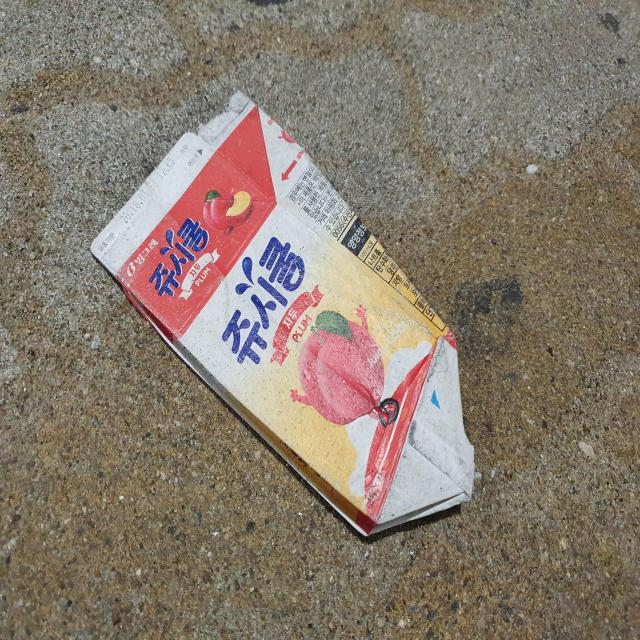paperpack: (91, 93, 474, 536)
